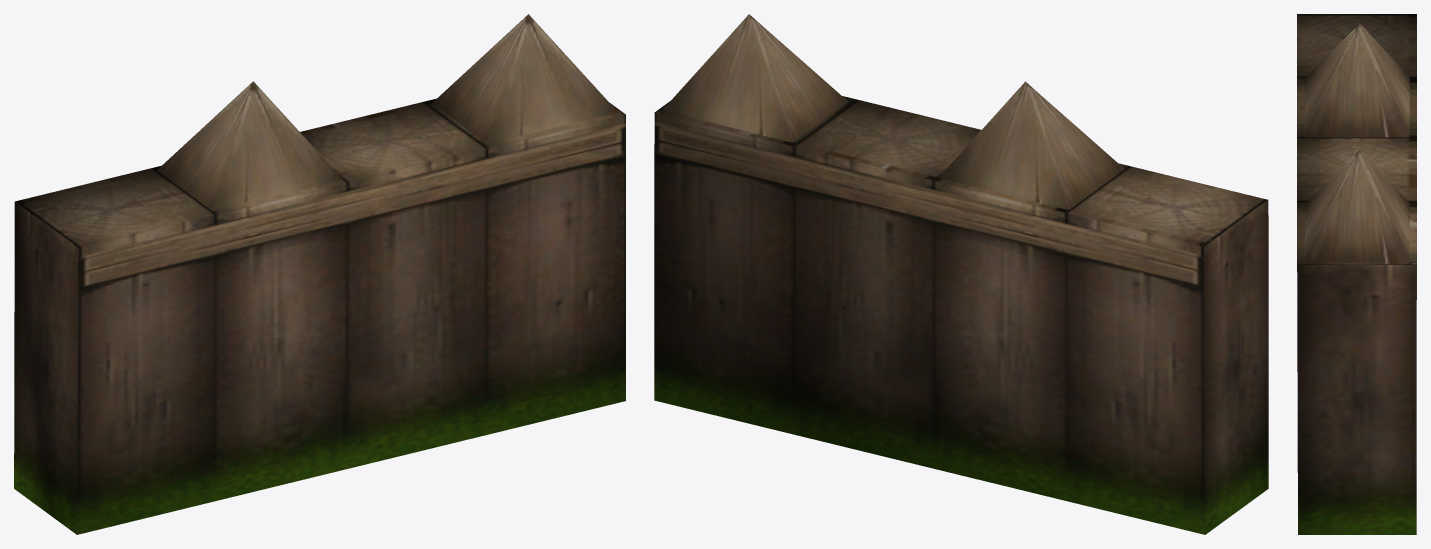
File: stwame1.dae
3 renders of one model, left to right at view 1: azimuth 30°, elevation 25°; view 2: azimuth 150°, elevation 25°; view 3: azimuth 270°, elevation 25°, orthographic. The views are drawn at different scales.
Parts seen in each view (by area): view 1: fence02; view 2: fence02; view 3: fence02.
Part boxes in pixels (bbox=[...]): fence02: bbox=[14, 14, 625, 534]; fence02: bbox=[654, 14, 1268, 534]; fence02: bbox=[1297, 14, 1416, 534].
Bounding box in the file's own units: 4.03 × 0.8097 × 2.65.
1 material, 1 textured.
